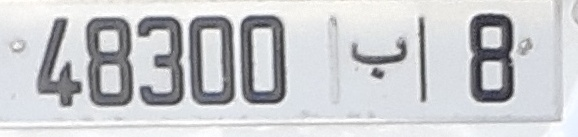0: (237, 12, 290, 108), (187, 13, 239, 108)
3: (136, 14, 185, 109)
4: (33, 16, 87, 108)
8: (466, 11, 520, 105), (85, 15, 136, 109)
b: (346, 31, 410, 83)
